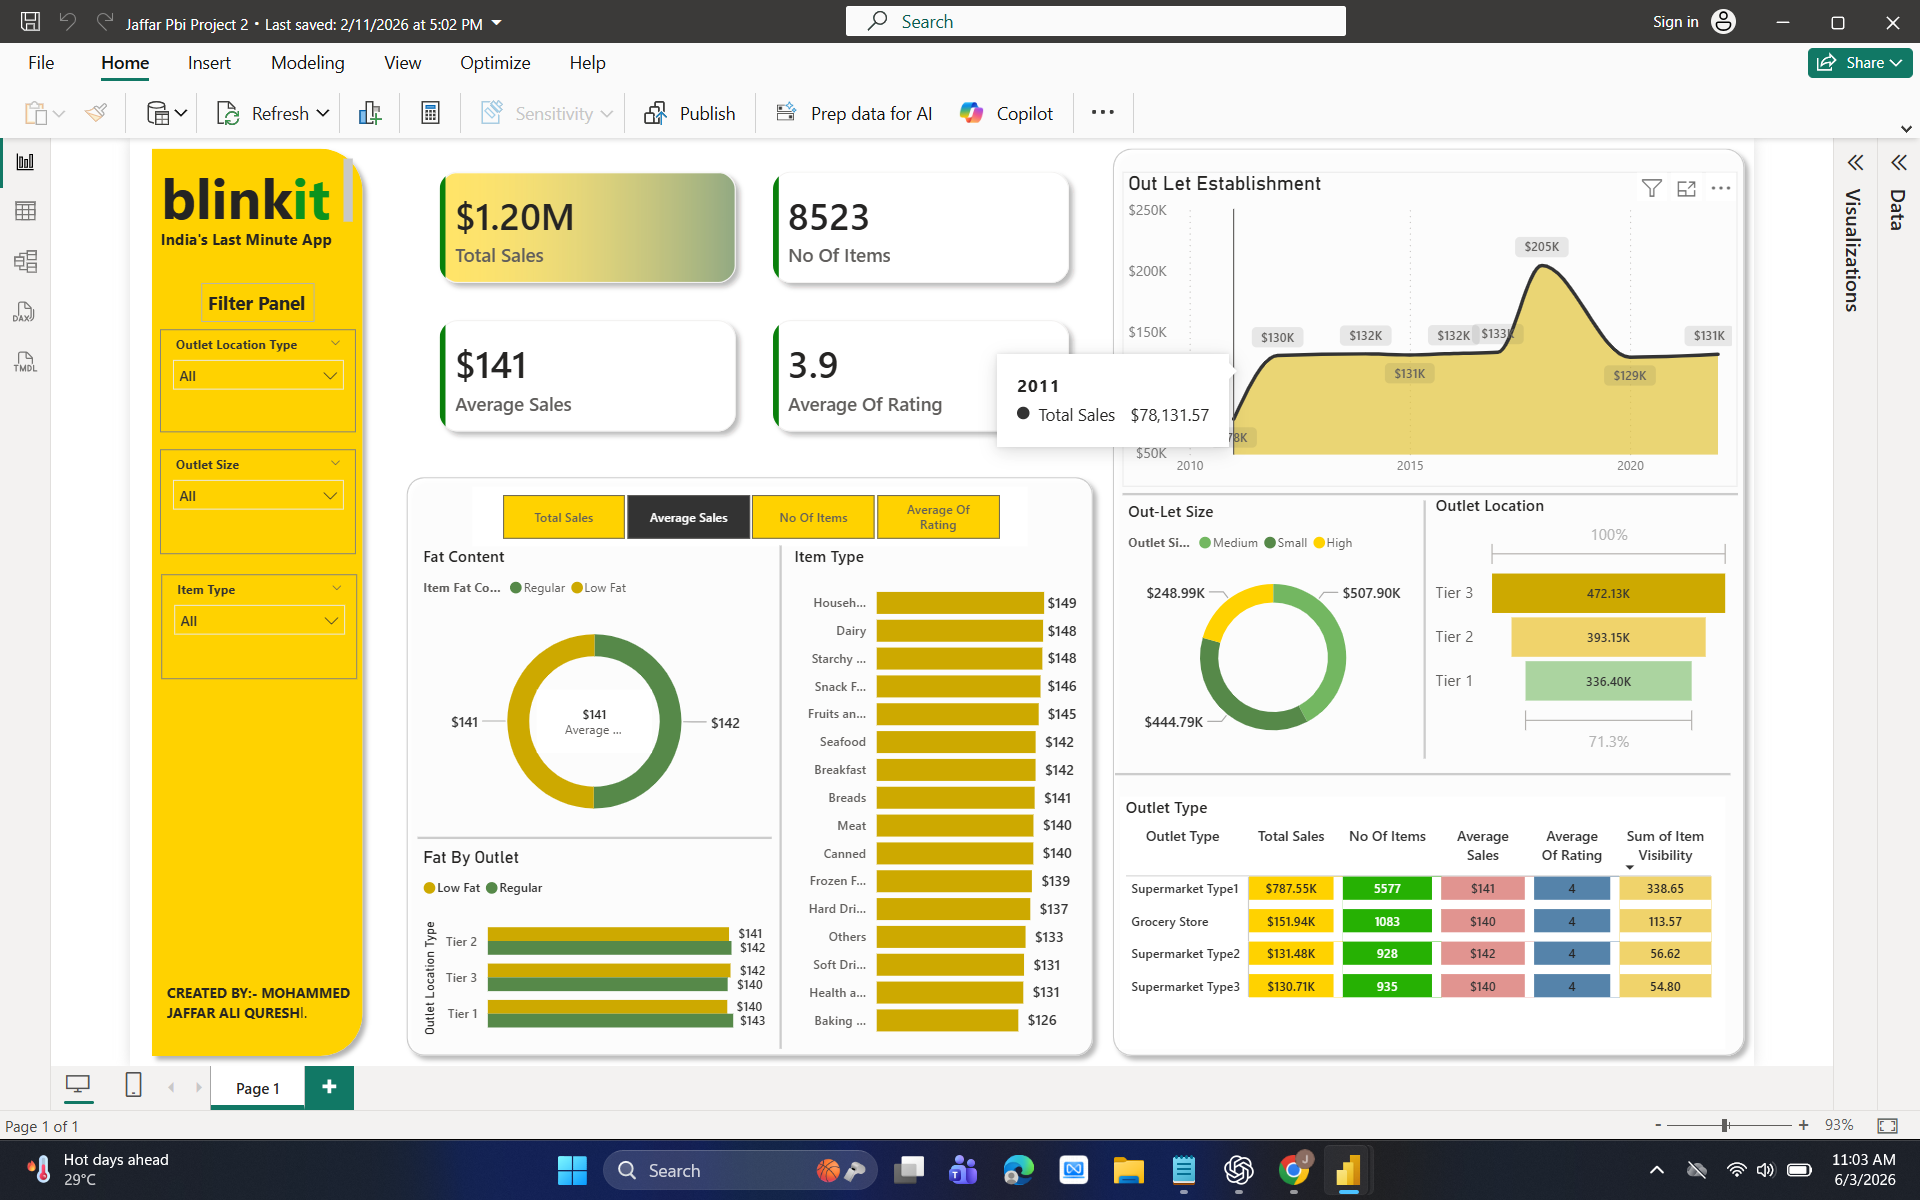

The dashboard page shown, as its layout file describes it:
{"tool":"powerbi","page":{"name":"Page 1","canvas":[1400,800],"ordinal":0},"visuals":[{"type":"shape","box":[10.2,0,199.7,800],"z":0},{"type":"textbox","box":[21.6,12.7,175.5,76.3],"z":1000},{"type":"textbox","box":[21.6,73.8,175.5,31.8],"z":2000},{"type":"cardVisual","fields":{"Data":["BlinkIT Grocery Data.Total Sales","BlinkIT Grocery Data.No Of Items","BlinkIT Grocery Data.Average Sales","BlinkIT Grocery Data.Average Of Rating"]},"box":[237.8,0,600.3,283.6],"z":3000},{"type":"shape","box":[228.9,283.6,609.2,516.4],"z":4000},{"type":"donutChart","title":"Fat Content","fields":{"Y":["BlinkIT Grocery Data.Average Sales"],"Category":["BlinkIT Grocery Data.Item Fat Content"]},"box":[248,351,305.2,258.2],"z":5000},{"type":"slicer","fields":{"Values":["Metrics.Metrics"]},"box":[295.1,300.1,478.2,50.9],"z":6000},{"type":"cardVisual","fields":{"Data":["BlinkIT Grocery Data.Average Sales"]},"box":[345.9,470.6,109.4,64.9],"z":7000},{"type":"clusteredBarChart","title":"Fat By Outlet","fields":{"Y":["BlinkIT Grocery Data.Average Sales"],"Category":["BlinkIT Grocery Data.Outlet Location Type"],"Series":["BlinkIT Grocery Data.Item Fat Content"]},"box":[248,610.5,305.2,174.2],"z":8000},{"type":"shape","box":[248,596.5,305.2,12.7],"z":9000},{"type":"shape","box":[553.2,351,14,433.7],"z":10000},{"type":"barChart","title":"Item Type","fields":{"Y":["BlinkIT Grocery Data.Average Sales"],"Category":["BlinkIT Grocery Data.Item Type"]},"box":[567.2,351,253.1,433.7],"z":11000},{"type":"shape","box":[838.1,0,562.1,800],"z":12000},{"type":"lineChart","title":"Out Let Establishment","fields":{"Y":["BlinkIT Grocery Data.Total Sales"],"Category":["BlinkIT Grocery Data.Outlet Establishment Year"]},"box":[854.7,29.3,530.3,270.9],"z":13000},{"type":"shape","box":[854.7,300.1,530.3,12.7],"z":14000},{"type":"donutChart","title":"Out-Let Size","fields":{"Y":["BlinkIT Grocery Data.Total Sales"],"Category":["BlinkIT Grocery Data.Outlet Size"]},"box":[854.7,312.9,260,225.1],"z":15000},{"type":"shape","box":[1110.3,312.9,10.2,222.6],"z":16000},{"type":"funnel","title":"Outlet Location","fields":{"Y":["Sum(BlinkIT Grocery Data.Sales)"],"Category":["BlinkIT Grocery Data.Outlet Location Type"]},"box":[1120.5,306.5,264.5,228.9],"z":17000},{"type":"shape","box":[848.3,541.8,530.3,12.7],"z":18000},{"type":"pivotTable","title":"Outlet Type","fields":{"Rows":["BlinkIT Grocery Data.Outlet Type"],"Values":["BlinkIT Grocery Data.Total Sales","BlinkIT Grocery Data.No Of Items","BlinkIT Grocery Data.Average Sales","BlinkIT Grocery Data.Average Of Rating","Sum(BlinkIT Grocery Data.Item Visibility)"]},"box":[853.4,567.2,521.4,217.5],"z":19000},{"type":"slicer","fields":{"Values":["BlinkIT Grocery Data.Outlet Location Type"]},"box":[25.9,164.3,169.2,88.9],"z":20000},{"type":"slicer","fields":{"Values":["BlinkIT Grocery Data.Outlet Size"]},"box":[25.9,268,169.2,90.2],"z":21000},{"type":"slicer","fields":{"Values":["BlinkIT Grocery Data.Item Type"]},"box":[27.2,375.4,169.2,90.2],"z":22000},{"type":"textbox","box":[61.8,124.7,97.6,33.3],"z":23000},{"type":"textbox","box":[27.2,721.2,172.9,63],"z":24000}]}

Visuals, with their boxes on the page's 1400x800 design canvas (x1, y1, x2, y2). These are canvas units, not pixel positions in the 1920x1200 screenshot, which may show the page scaled, cropped or inside an application window:
shape: 10,0,210,800
textbox: 22,13,197,89
textbox: 22,74,197,106
cardVisual - BlinkIT Grocery Data.Total Sales x BlinkIT Grocery Data.No Of Items: 238,0,838,284
shape: 229,284,838,800
"Fat Content" donutChart: 248,351,553,609
slicer - Metrics.Metrics: 295,300,773,351
cardVisual - BlinkIT Grocery Data.Average Sales: 346,471,455,536
"Fat By Outlet" clusteredBarChart: 248,610,553,785
shape: 248,596,553,609
shape: 553,351,567,785
"Item Type" barChart: 567,351,820,785
shape: 838,0,1400,800
"Out Let Establishment" lineChart: 855,29,1385,300
shape: 855,300,1385,313
"Out-Let Size" donutChart: 855,313,1115,538
shape: 1110,313,1120,536
"Outlet Location" funnel: 1120,306,1385,535
shape: 848,542,1379,554
"Outlet Type" pivotTable: 853,567,1375,785
slicer - BlinkIT Grocery Data.Outlet Location Type: 26,164,195,253
slicer - BlinkIT Grocery Data.Outlet Size: 26,268,195,358
slicer - BlinkIT Grocery Data.Item Type: 27,375,196,466
textbox: 62,125,159,158
textbox: 27,721,200,784
